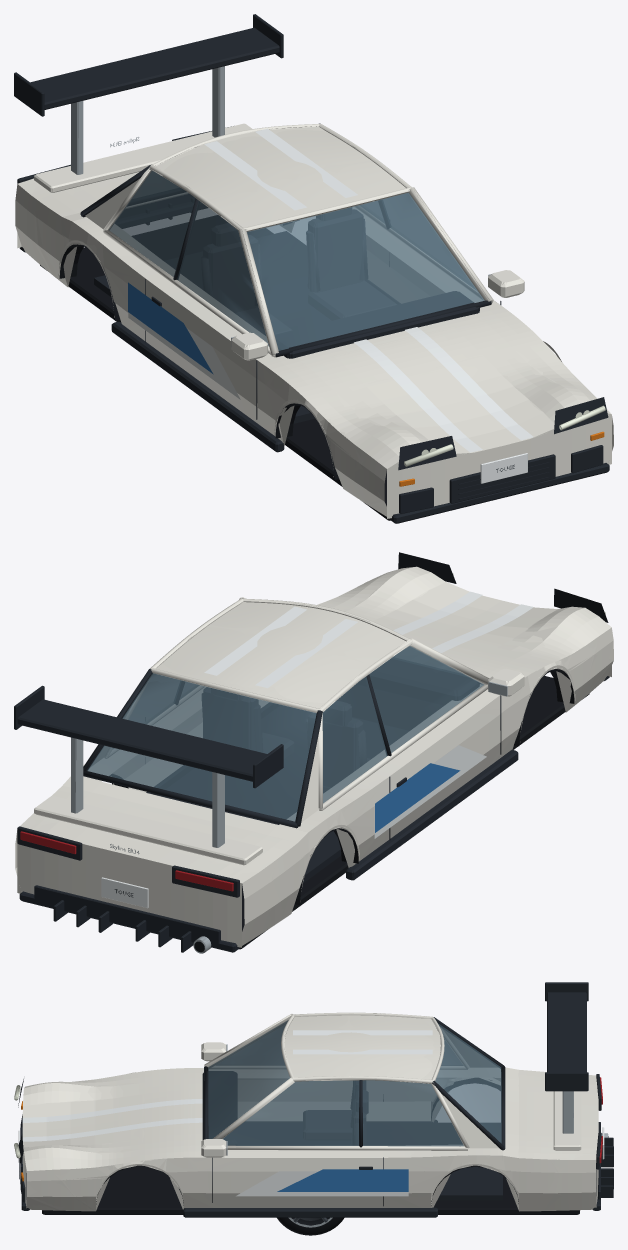
3 renders of one model, top to bottom at view 1: azimuth 30°, elevation 25°; view 2: azimuth 150°, elevation 25°; view 3: azimuth 270°, elevation 25°, orthographic. The views are drawn at different scales.
Visible parts, largest first — view 1: LOD0_body, LOD0_cabin, LOD0_glass, LOD1_glass, LOD1_body, LOD0_hood, LOD1_cabin, LOD1_hood, LOD1_spoiler_gt, LOD0_spoiler_gt, LOD0_vinyl_apex, LOD1_vinyl_twin (+3 smaller); view 2: LOD0_body, LOD0_cabin, LOD0_glass, LOD1_glass, LOD1_body, LOD0_hood, LOD1_spoiler_gt, LOD1_hood, LOD0_spoiler_gt, LOD1_cabin, LOD0_vinyl_apex, LOD1_spoiler_stock (+3 smaller); view 3: LOD0_body, LOD0_cabin, LOD0_glass, LOD1_glass, LOD1_body, LOD0_hood, LOD1_cabin, LOD1_hood, LOD0_vinyl_apex, LOD1_spoiler_gt, LOD0_vinyl_twin, LOD0_spoiler_gt (+5 smaller).
Part boxes in pixels (x1,y1,x2,y2): LOD0_body: (15,126,613,523); LOD0_cabin: (80,123,493,423); LOD0_glass: (109,171,484,350); LOD1_glass: (109,171,484,350); LOD1_body: (16,139,613,523); LOD0_hood: (279,309,589,456); LOD1_cabin: (82,124,489,422); LOD1_hood: (303,320,571,453); LOD1_spoiler_gt: (14,27,283,174); LOD0_spoiler_gt: (14,14,283,174); LOD0_vinyl_apex: (128,282,240,399); LOD1_vinyl_twin: (207,129,533,452); LOD0_body: (15,552,613,953); LOD0_cabin: (83,597,489,884); LOD0_glass: (88,646,483,821); LOD1_glass: (87,646,483,821); LOD1_body: (15,572,613,953); LOD0_hood: (332,566,598,686); LOD1_spoiler_gt: (16,685,270,847); LOD1_hood: (346,571,571,660); LOD0_spoiler_gt: (14,686,283,847); LOD1_cabin: (106,598,487,882); LOD0_vinyl_apex: (374,745,486,838); LOD1_spoiler_stock: (34,796,262,865); LOD0_body: (14,1042,613,1217); LOD0_cabin: (202,1012,505,1200); LOD0_glass: (208,1020,501,1146); LOD1_glass: (208,1021,501,1146); LOD1_body: (15,1042,608,1217); LOD0_hood: (22,1073,202,1160); LOD1_cabin: (203,1013,502,1199); LOD1_hood: (22,1078,191,1152); LOD0_vinyl_apex: (236,1169,408,1196); LOD1_spoiler_gt: (545,983,588,1133); LOD0_vinyl_twin: (25,1030,432,1141); LOD0_spoiler_gt: (545,982,588,1133).
Size of the model in its own units: 1.99 by 1.79 by 4.77.
